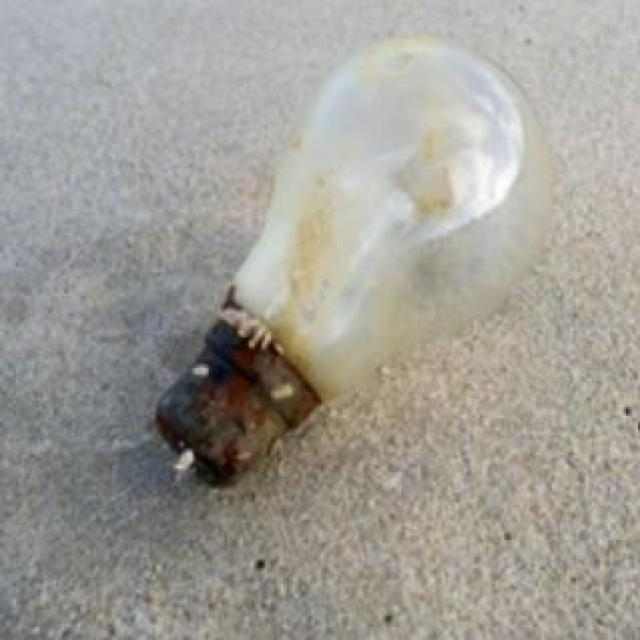electronic: (152, 31, 556, 486)
